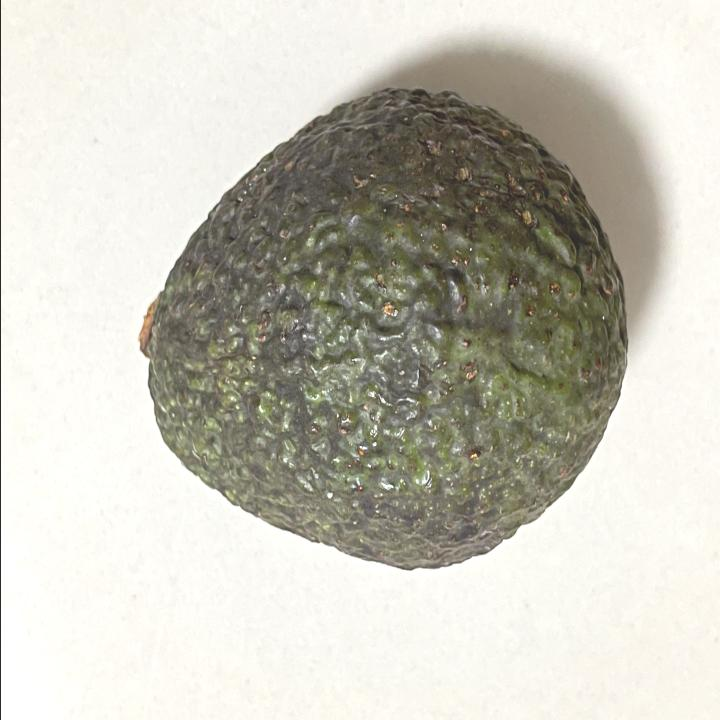Level1: (124, 71, 638, 588)
